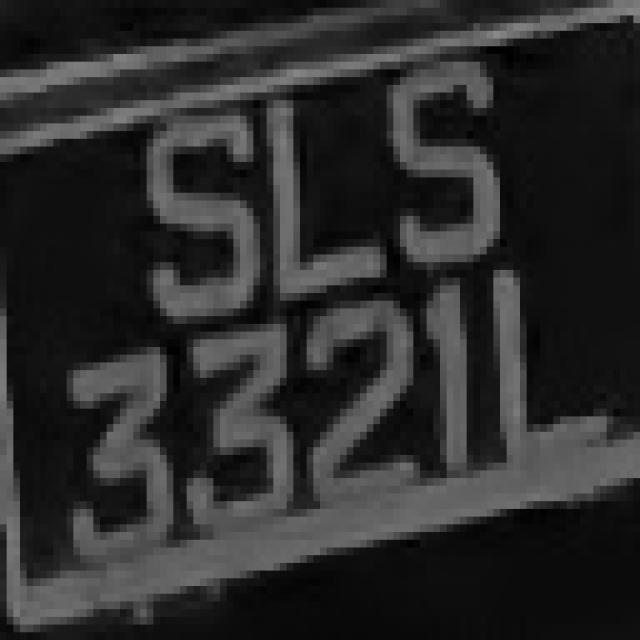1: (393, 254, 480, 493)
2: (287, 278, 413, 524)
3: (47, 347, 180, 586), (174, 308, 294, 563)
L: (474, 254, 614, 486), (240, 93, 367, 316)
S: (100, 92, 267, 324), (367, 54, 520, 270)
